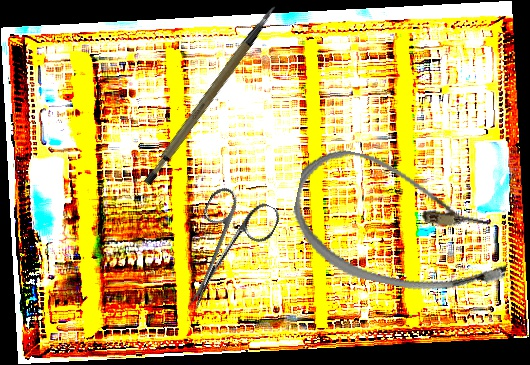Cannula: (282, 142, 524, 308)
Iris Scissors: (161, 180, 284, 326)
Scalpel Handle: (121, 2, 304, 189)
